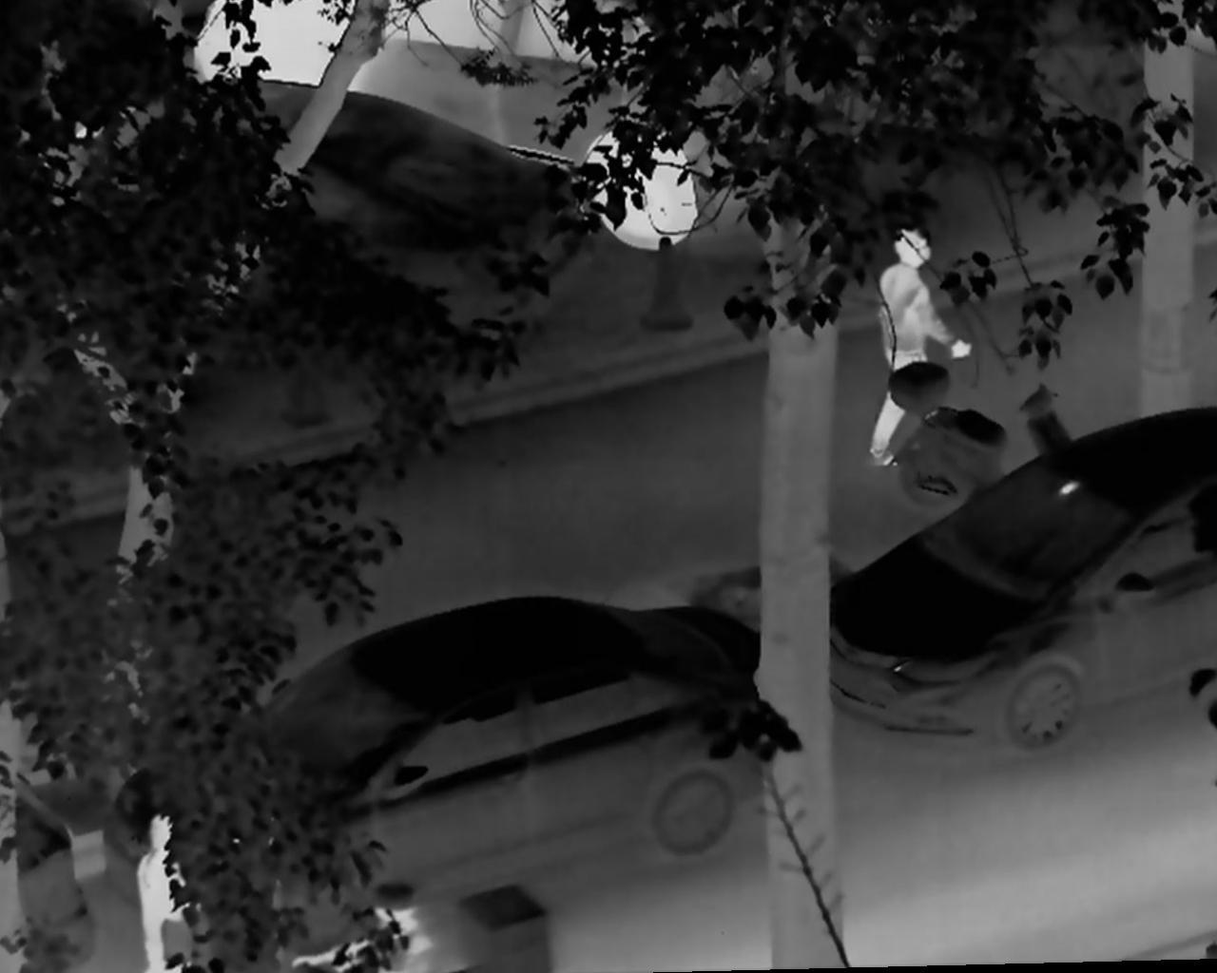person: (865, 225, 972, 475), (261, 879, 461, 973), (123, 811, 214, 973)
